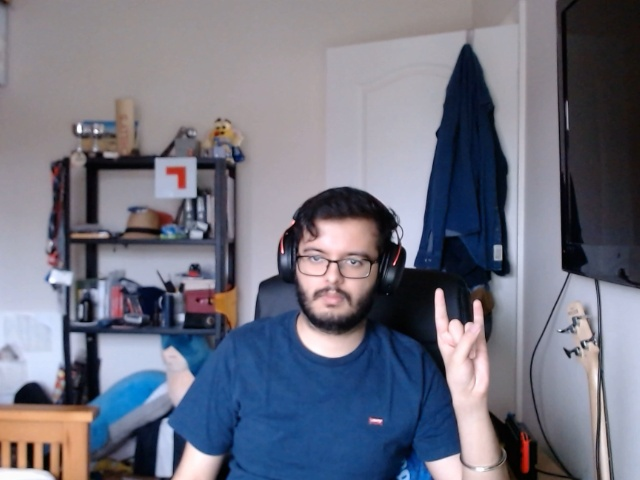Rock on: (429, 274, 495, 419)
